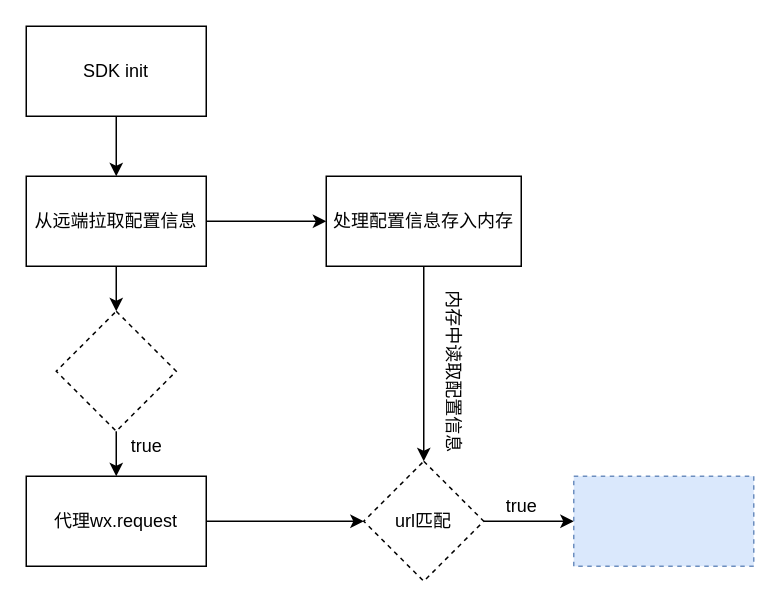
The diagram is 780 pixels wide and 608 high, and some of its shapes have lost their labels. Each missing label, with the centre of its shape:
SR track上报: the point at 663,520
代理开关: the point at 115,370
